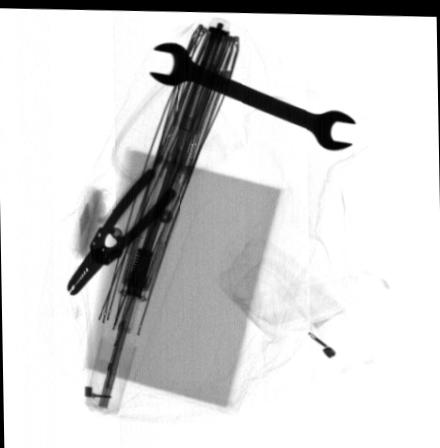Pliers: (65, 162, 176, 295)
Wrench: (148, 40, 355, 148)
